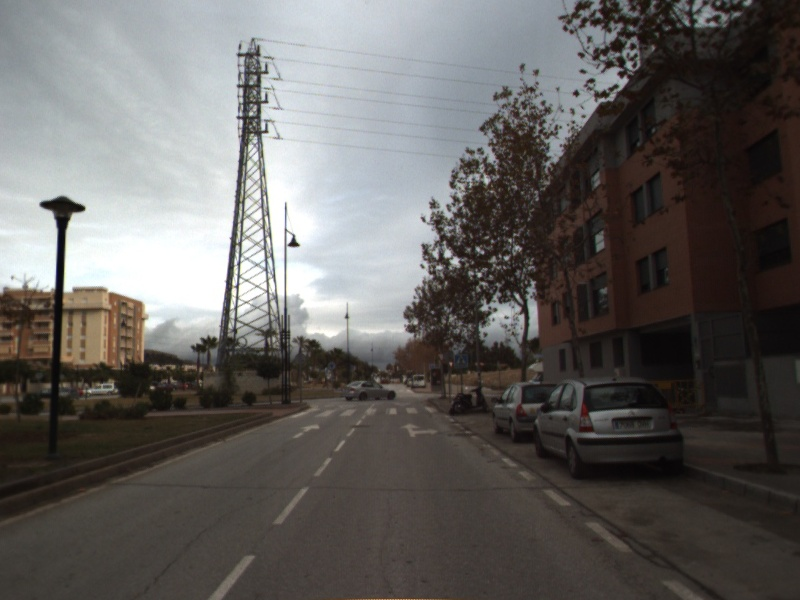STRAIGHT: (290, 421, 322, 440)
STRAIGHT_RIGHT: (398, 421, 440, 439)
